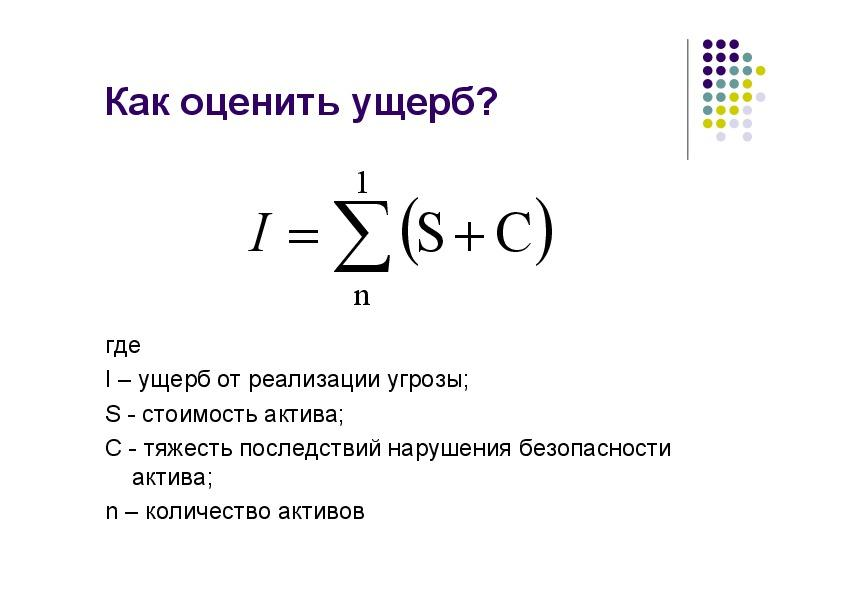paragraph: (66, 321, 735, 557)
title: (93, 73, 511, 138)
